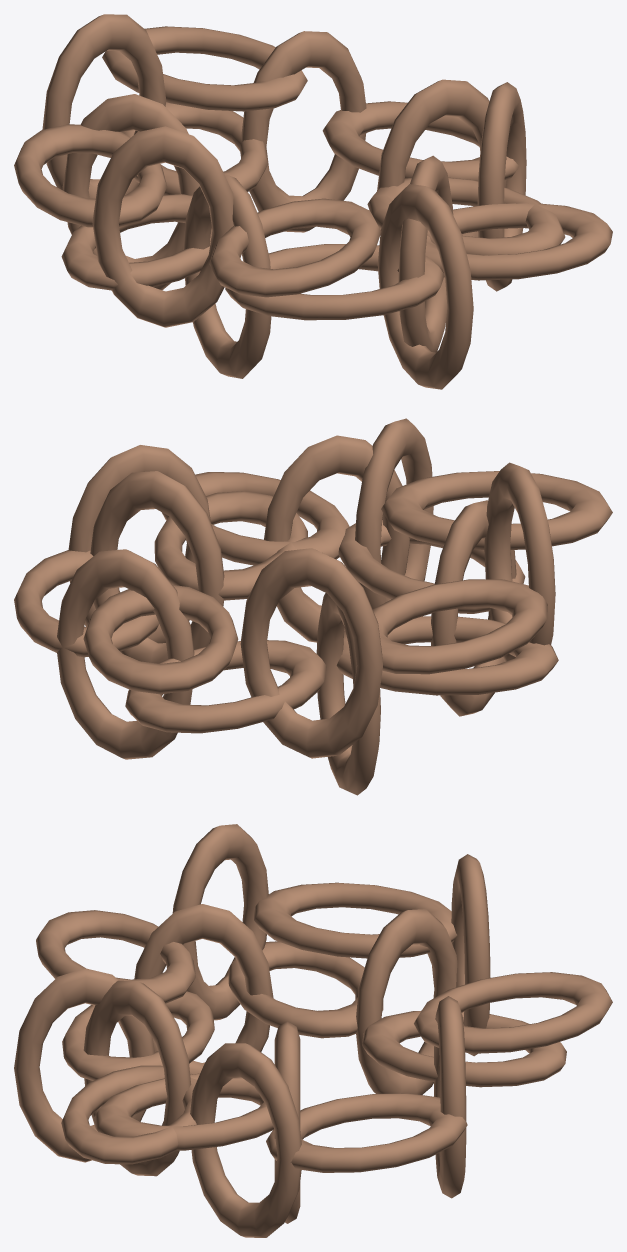
The model's file is underwater-reef-worlds-heaped-chain-0e28fb1a__7065.glb.
3 renders of one model, top to bottom at view 1: azimuth 30°, elevation 25°; view 2: azimuth 150°, elevation 25°; view 3: azimuth 270°, elevation 25°, orthographic. The views are drawn at different scales.
Visible parts, largest first — view 1: heaped-chain; view 2: heaped-chain; view 3: heaped-chain.
Boxes of the visible parts, x1,y1,x2,y2 form: heaped-chain: (14,14,612,389); heaped-chain: (14,418,612,795); heaped-chain: (14,824,612,1237).
Bounding box in the file's own units: 0.9053 × 0.466 × 1.02.
